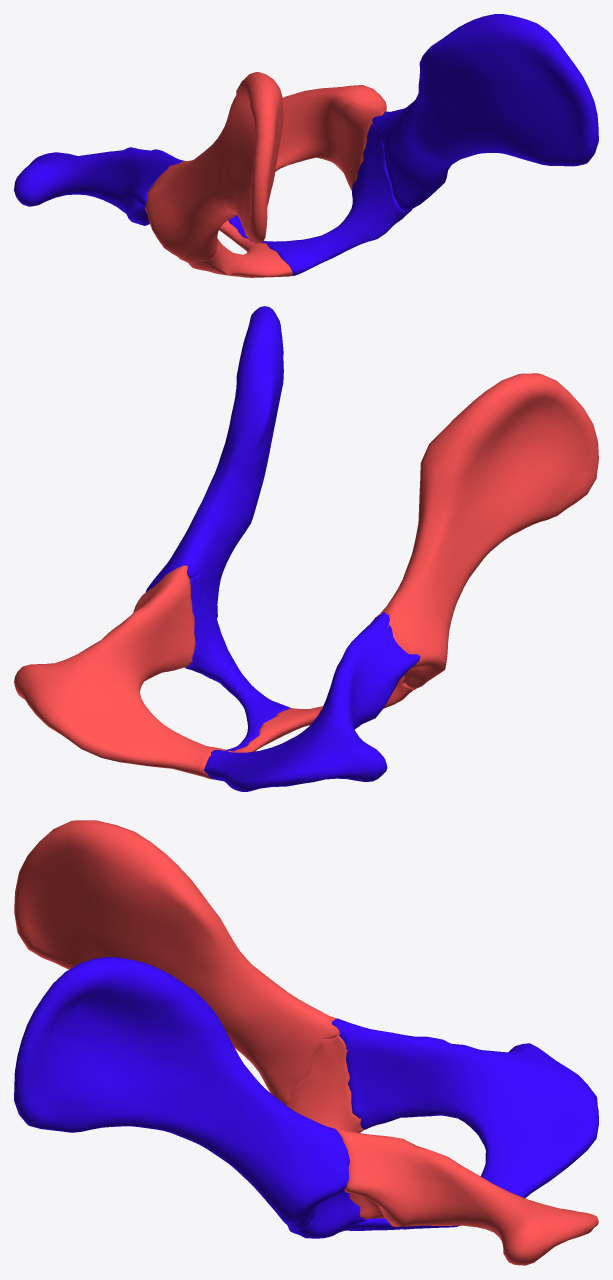
The picture shows the model from 3 angles, top to bottom: view 1: azimuth 30°, elevation 25°; view 2: azimuth 150°, elevation 25°; view 3: azimuth 270°, elevation 25°; orthographic projection. The views are drawn at different scales.
Parts seen in each view (by area): view 1: os_ilium_left, os_ilium_right, Os_ischi_right2, Os_ischi_left, os_pubis_left, os_pubis_right; view 2: os_ilium_right, Os_ischi_left, Os_ischi_right2, os_ilium_left, os_pubis_left, os_pubis_right; view 3: os_ilium_left, os_ilium_right, Os_ischi_right2, Os_ischi_left, os_pubis_right, os_pubis_left.
Boxes of the visible parts, bbox=[...] form: os_ilium_left: bbox=[372, 14, 598, 211]; os_ilium_right: bbox=[145, 72, 283, 263]; Os_ischi_right2: bbox=[14, 147, 184, 225]; Os_ischi_left: bbox=[275, 85, 386, 190]; os_pubis_left: bbox=[228, 123, 412, 275]; os_pubis_right: bbox=[188, 220, 292, 277]; os_ilium_right: bbox=[373, 373, 598, 690]; Os_ischi_left: bbox=[14, 565, 225, 779]; Os_ischi_right2: bbox=[204, 612, 420, 791]; os_ilium_left: bbox=[145, 306, 283, 618]; os_pubis_left: bbox=[185, 574, 290, 751]; os_pubis_right: bbox=[227, 675, 413, 752]; os_ilium_left: bbox=[14, 957, 349, 1229]; os_ilium_right: bbox=[14, 820, 340, 1104]; Os_ischi_right2: bbox=[331, 1018, 598, 1198]; Os_ischi_left: bbox=[335, 1128, 598, 1265]; os_pubis_right: bbox=[286, 1035, 409, 1229]; os_pubis_left: bbox=[287, 1190, 459, 1238].
Size of the model in its own units: 0.1795 by 0.1418 by 0.2223.
